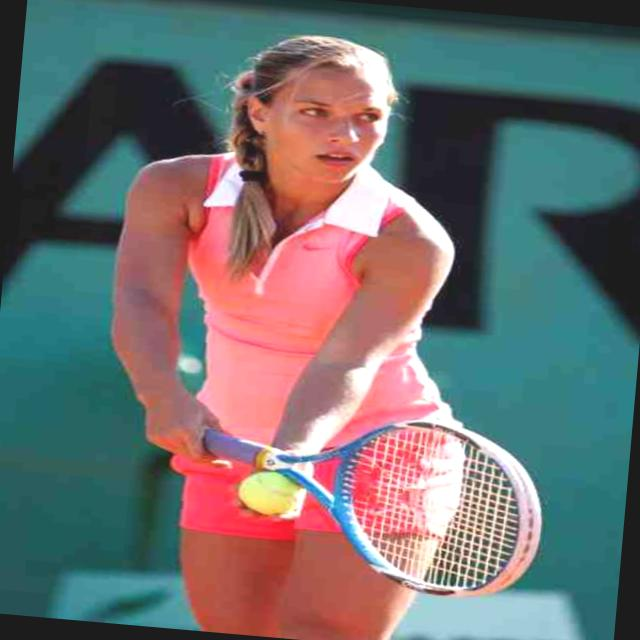Tennis Ball: (236, 468, 304, 516)
